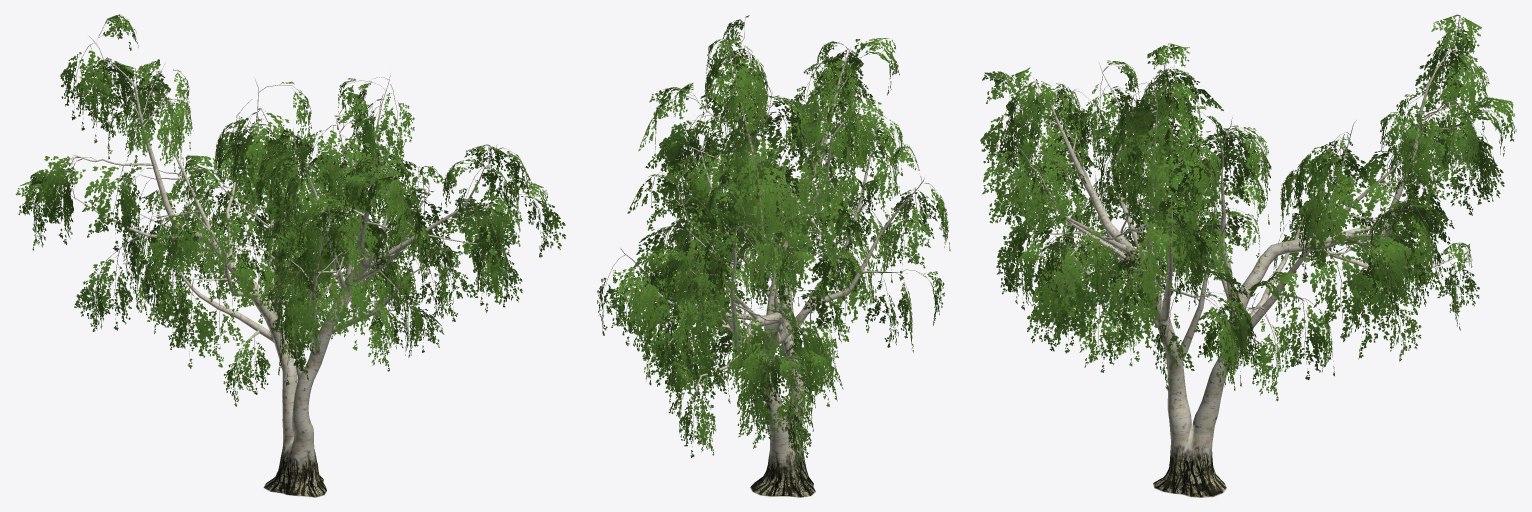
Rendered from tree-birch-clump.glb.
3 renders of one model, left to right at view 1: azimuth 30°, elevation 25°; view 2: azimuth 150°, elevation 25°; view 3: azimuth 270°, elevation 25°, orthographic. The views are drawn at different scales.
Parts seen in each view (by area): view 1: Birch_5; view 2: Birch_5; view 3: Birch_5.
Boxes of the visible parts, x1=… form: Birch_5: x1=15, y1=14, x2=565, y2=497; Birch_5: x1=597, y1=15, x2=950, y2=497; Birch_5: x1=980, y1=14, x2=1516, y2=497.
Size of the model in its own units: 10.49 by 11.6 by 12.57.
2 materials, 2 textured.
